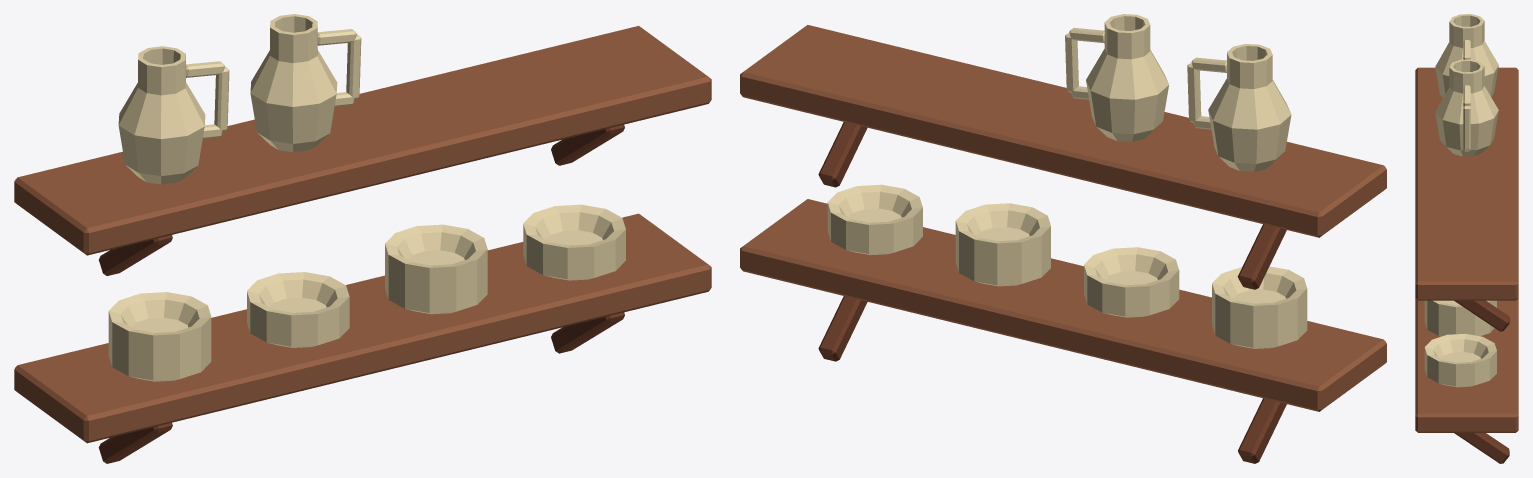
Rendered from crockery_shelf.glb.
The picture shows the model from 3 angles, left to right: view 1: azimuth 30°, elevation 25°; view 2: azimuth 150°, elevation 25°; view 3: azimuth 270°, elevation 25°; orthographic projection. The views are drawn at different scales.
Parts seen in each view (by area): view 1: Shelf_001, Shelf, Jug_Body_001, Jug_Body, Bowl_Dish_002, Bowl_Dish_009, Bowl_Dish_004, Bowl_Dish_007, Bowl_Dish_008, Bowl_Dish_003, Bowl_Dish, Bowl_Dish_001 (+8 smaller); view 2: Shelf_001, Shelf, Jug_Body_001, Jug_Body, Bowl_Dish_009, Bowl_Dish_004, Bowl_Dish_007, Bowl_Dish_002, Bowl_Dish, Bowl_Dish_008, Bowl_Dish_005, Bowl_Dish_003 (+8 smaller); view 3: Shelf_001, Shelf, Jug_Body_001, Jug_Body, Bowl_Dish_009, Bowl_Dish_008, Bracket_003, Bracket_001, Bowl_Dish_006, Bowl_Dish_005, Bowl_Dish_007, Jug_Handle_004 (+2 smaller).
Boxes of the visible parts, x1,y1,x2,y2 form: Shelf_001: (14,26,711,255); Shelf: (14,213,711,443); Jug_Body_001: (250,14,337,152); Jug_Body: (118,46,205,184); Bowl_Dish_002: (108,292,211,352); Bowl_Dish_009: (523,204,625,262); Bowl_Dish_004: (247,272,349,331); Bowl_Dish_007: (385,224,487,282); Bowl_Dish_008: (523,238,625,280); Bowl_Dish_003: (247,305,349,347); Bowl_Dish: (108,339,211,381); Bowl_Dish_001: (108,325,211,366); Shelf_001: (740,25,1386,237); Shelf: (740,199,1386,411); Jug_Body_001: (1086,14,1168,141); Jug_Body: (1208,44,1291,171); Bowl_Dish_009: (827,184,922,241); Bowl_Dish_004: (1084,247,1179,303); Bowl_Dish_007: (955,203,1050,256); Bowl_Dish_002: (1212,266,1307,322); Bowl_Dish: (1212,309,1307,348); Bowl_Dish_008: (827,216,922,255); Bowl_Dish_005: (955,247,1050,286); Bowl_Dish_003: (1084,280,1179,317); Shelf_001: (1415,67,1518,300); Shelf: (1415,298,1518,432); Jug_Body_001: (1435,59,1498,156); Jug_Body: (1435,14,1498,97); Bowl_Dish_009: (1424,333,1496,376); Bowl_Dish_008: (1424,357,1496,387); Bracket_003: (1454,300,1509,331); Bracket_001: (1454,433,1509,463); Bowl_Dish_006: (1424,303,1496,328); Bowl_Dish_005: (1424,312,1494,336); Bowl_Dish_007: (1424,300,1496,319); Jug_Handle_004: (1463,105,1470,149).
Bounding box in the file's own units: 1.68 × 1.07 × 0.34.
